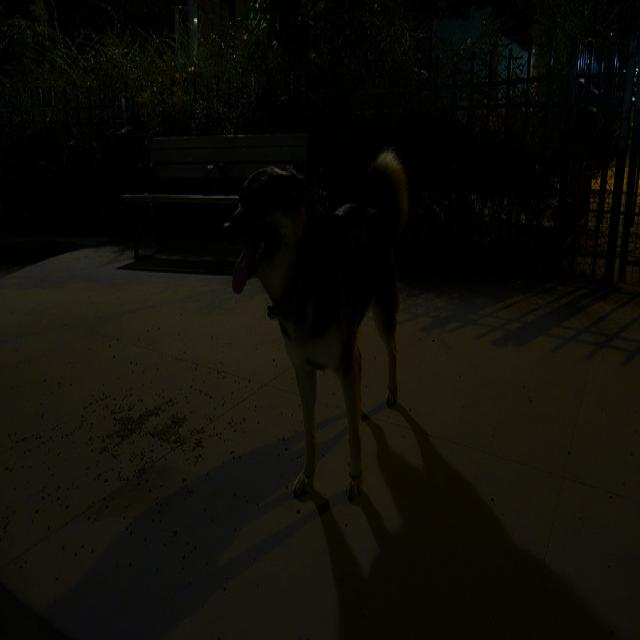Dog: (228, 154, 400, 508)
